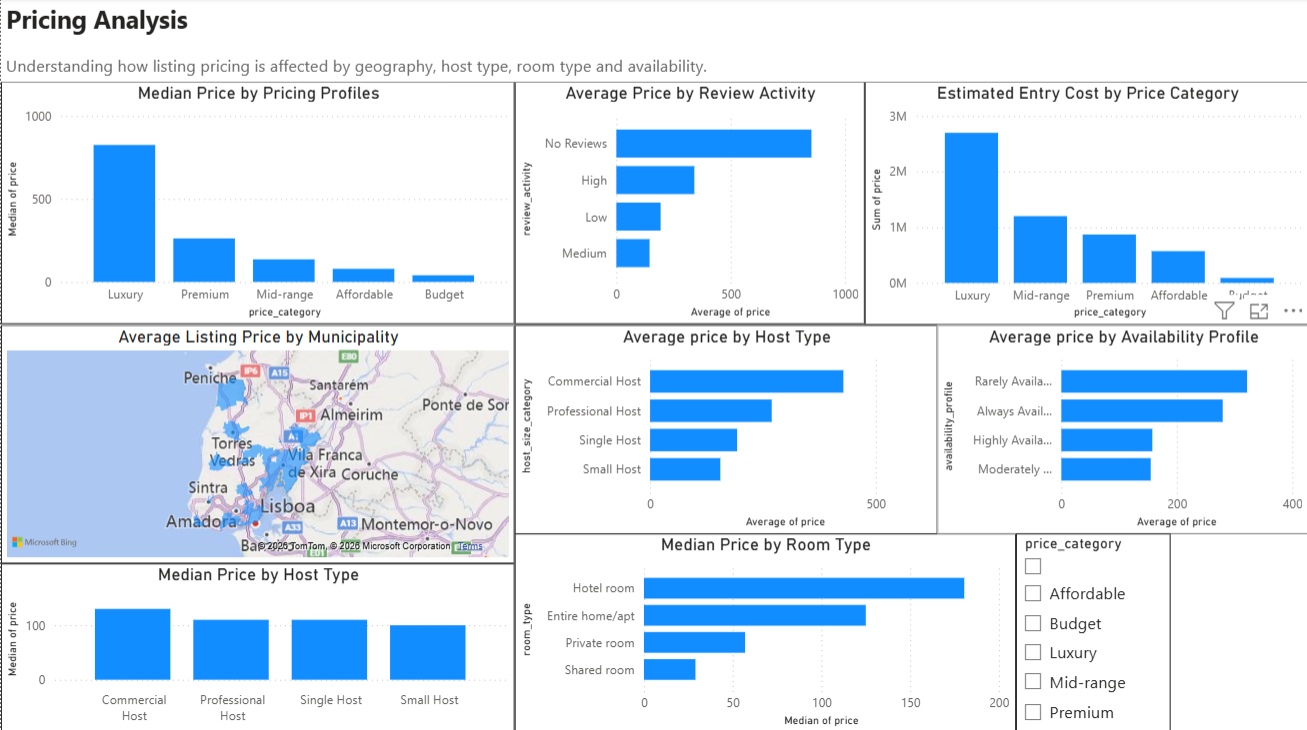

This screenshot's page, from the dashboard's own definition file:
{"tool":"powerbi","page":{"name":"Pricing Analysis","canvas":[1280,720],"ordinal":2},"visuals":[{"type":"filledMap","title":"Average Listing Price by Municipality","fields":{"Category":["listings_data_clean.neighbourhood_group"]},"box":[0,320,502.5,233.8],"z":0},{"type":"barChart","title":"Average price by Host Type","fields":{"Category":["listings_data_clean.host_size_category"],"Y":["Avg(listings_data_clean.price)"]},"box":[502.5,320,413.8,205],"z":1000},{"type":"clusteredColumnChart","title":"Median Price by Pricing Profiles","fields":{"Category":["listings_data_clean.price_category"],"Y":["Median(listings_data_clean.price)"]},"box":[0,82.5,502.5,237.5],"z":2000},{"type":"clusteredBarChart","title":"Average Price by Review Activity","fields":{"Category":["listings_data_clean.review_activity"],"Y":["Avg(listings_data_clean.price)"]},"box":[502.5,82.5,342.5,237.5],"z":3000},{"type":"clusteredColumnChart","title":"Estimated Entry Cost by Price Category","fields":{"Category":["listings_data_clean.price_category"],"Y":["Sum(listings_data_clean.price)"]},"box":[845,81.9,435.3,238.5],"z":4000},{"type":"columnChart","title":"Median Price by Host Type","fields":{"Category":["listings_data_clean.host_size_category"],"Y":["Median(listings_data_clean.price)"]},"box":[0,553.8,502.5,166.2],"z":5000},{"type":"barChart","title":"Median Price by Room Type","fields":{"Category":["listings_data_clean.room_type"],"Y":["Median(listings_data_clean.price)"]},"box":[502.5,525,490,195],"z":6000},{"type":"clusteredBarChart","title":"Average price by Availability Profile","fields":{"Category":["listings_data_clean.availability_profile"],"Y":["Avg(listings_data_clean.price)"]},"box":[916.2,320,363.8,205],"z":7000},{"type":"slicer","fields":{"Values":["listings_data_clean.price_category"]},"box":[992.5,525,151.2,195],"z":8000},{"type":"textbox","box":[0,0,1280,82.5],"z":9000}]}

Visuals, with their boxes in screenshot pixels (x1, y1, x2, y2), scaled from the page's 1280x720 canvas onto the 1307x730 screenshot:
"Average Listing Price by Municipality" filledMap: bbox(0, 324, 513, 561)
"Average price by Host Type" barChart: bbox(513, 324, 936, 532)
"Median Price by Pricing Profiles" clusteredColumnChart: bbox(0, 84, 513, 324)
"Average Price by Review Activity" clusteredBarChart: bbox(513, 84, 863, 324)
"Estimated Entry Cost by Price Category" clusteredColumnChart: bbox(863, 83, 1306, 325)
"Median Price by Host Type" columnChart: bbox(0, 561, 513, 729)
"Median Price by Room Type" barChart: bbox(513, 532, 1013, 729)
"Average price by Availability Profile" clusteredBarChart: bbox(936, 324, 1306, 532)
slicer - listings_data_clean.price_category: bbox(1013, 532, 1168, 729)
textbox: bbox(0, 0, 1306, 84)
